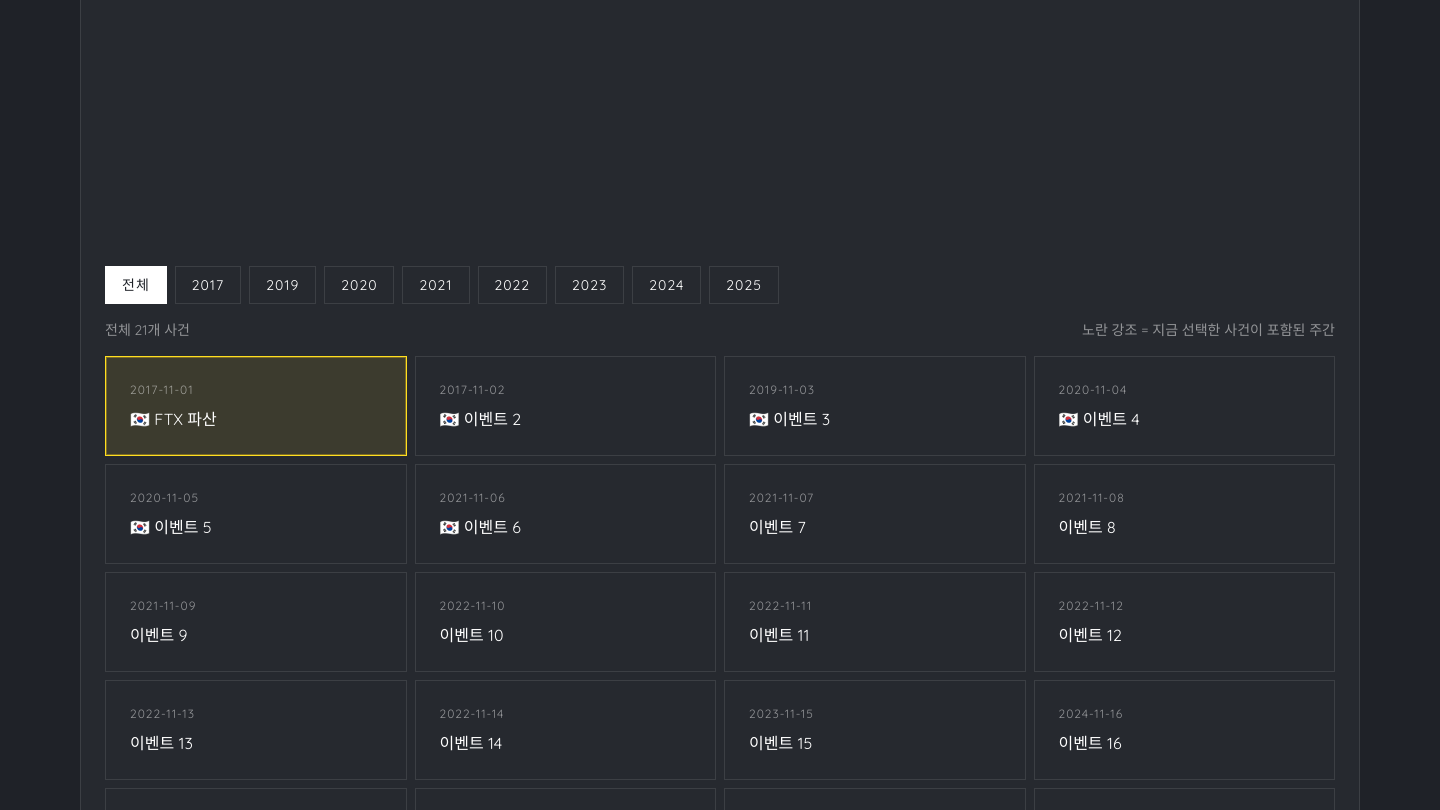
it: App › updates the detail panel immediately when another event is selected
(page scrolled)
Click the link with aria-label "이벤트 2 보기". click: coordinates (472, 389)
box: [414,356,716,456]
(page scrolled)
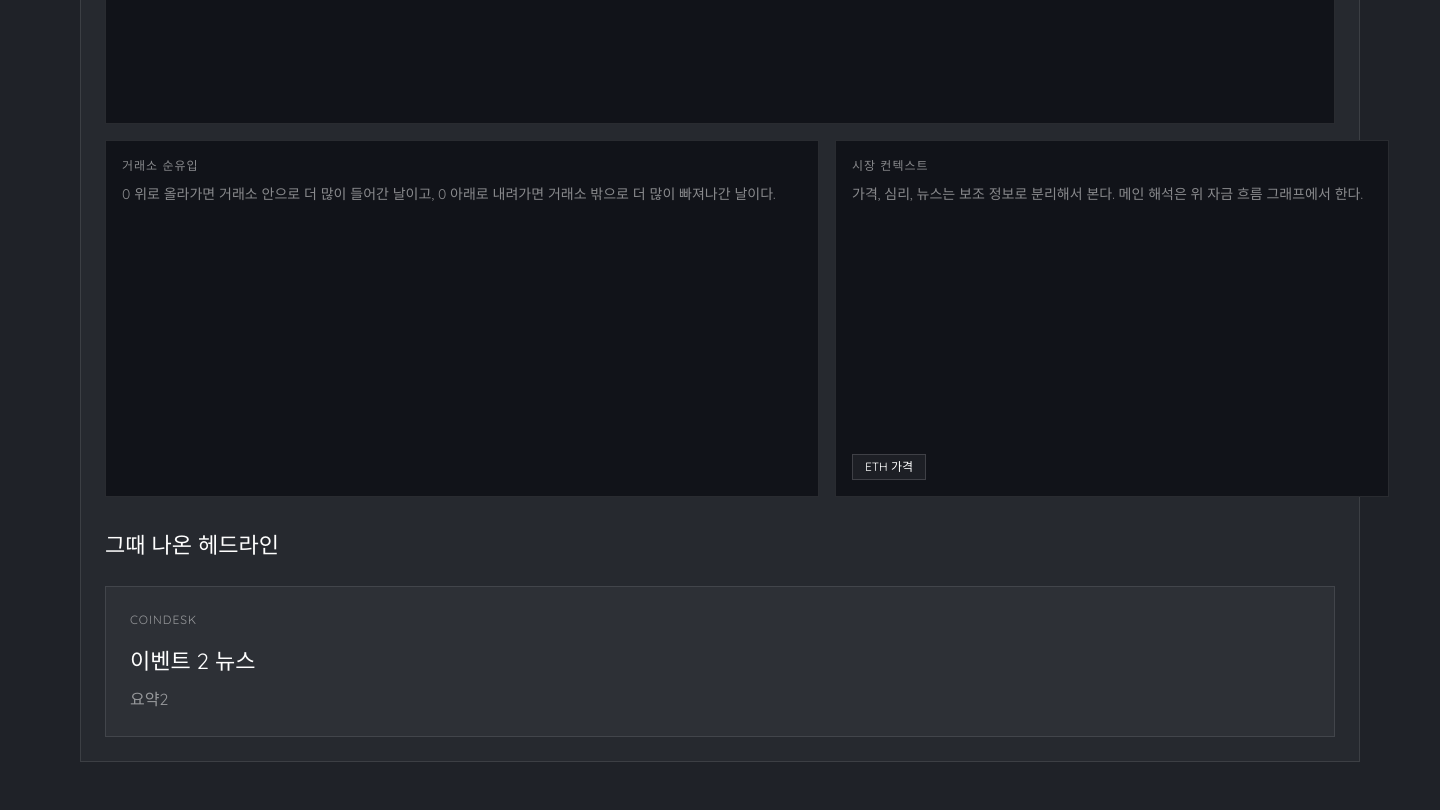
Expected: the link "이벤트 2 뉴스" is shown, [130,647,255,675]
